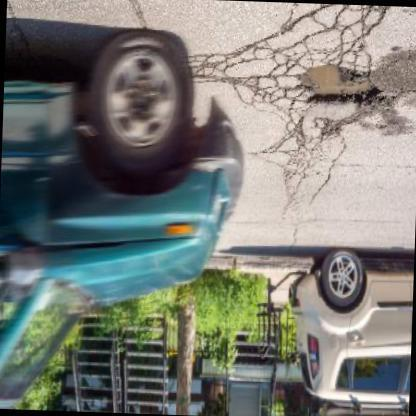pothole: (298, 61, 384, 107)
